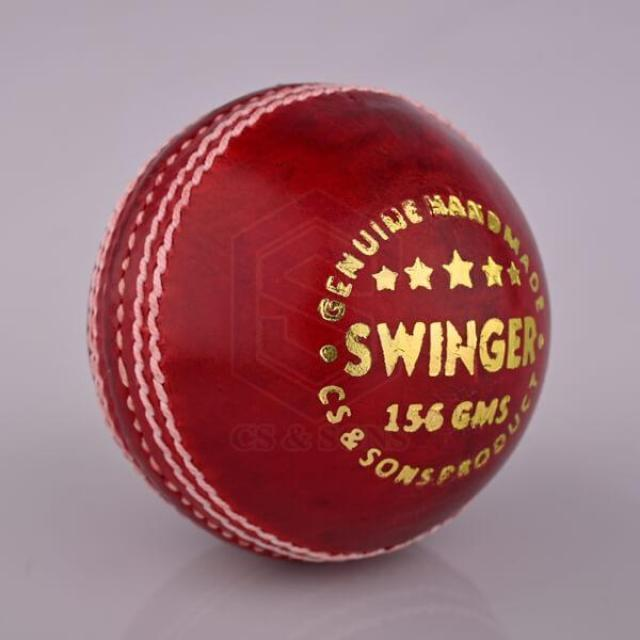cricket ball: (85, 79, 551, 563)
